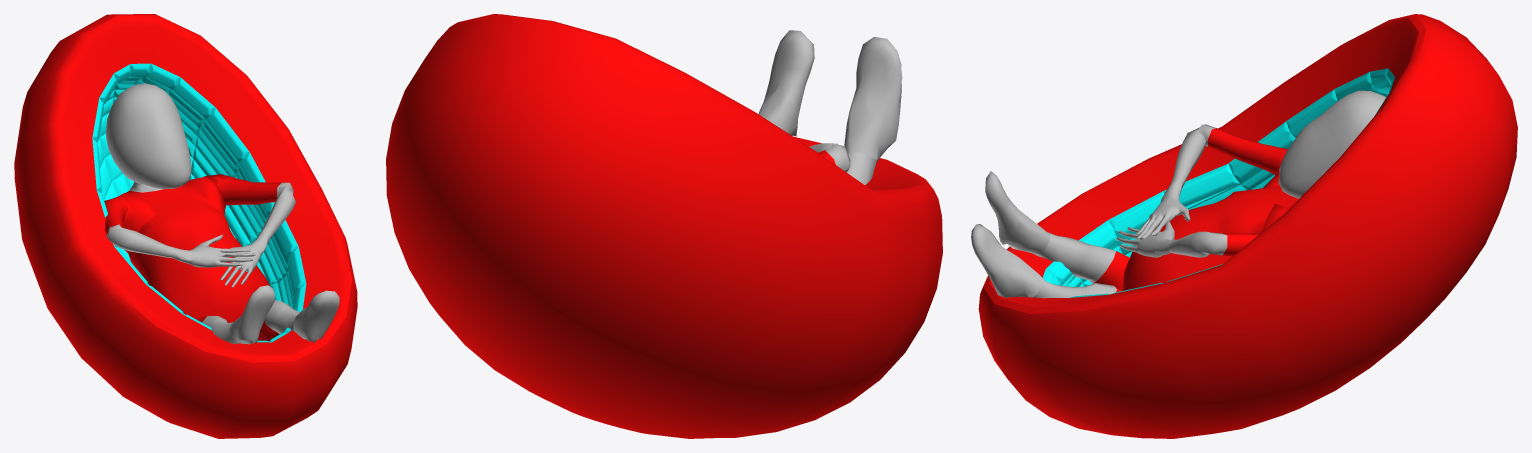
File: DumbassCrewmate.fbx
3 views of the same model, side by side, from view 1: azimuth 30°, elevation 25°; view 2: azimuth 150°, elevation 25°; view 3: azimuth 270°, elevation 25° (orthographic). The views are drawn at different scales.
Parts seen in each view (by area): view 1: DumbassCrewmate; view 2: DumbassCrewmate; view 3: DumbassCrewmate.
Part boxes in pixels (<box>): DumbassCrewmate: <box>14,14,357,438</box>; DumbassCrewmate: <box>386,14,942,438</box>; DumbassCrewmate: <box>971,14,1517,438</box>.
Bounding box in the file's own units: 75.15 × 85.88 × 107.
